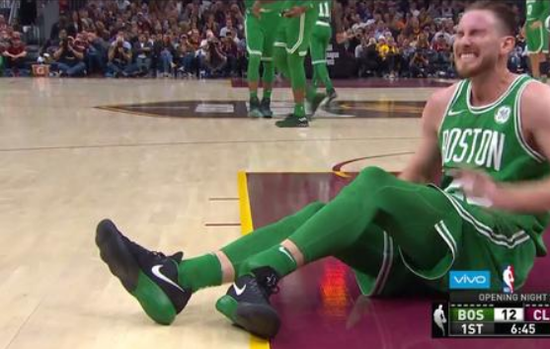10+: (5, 2, 550, 122)
down: (84, 10, 550, 344)
